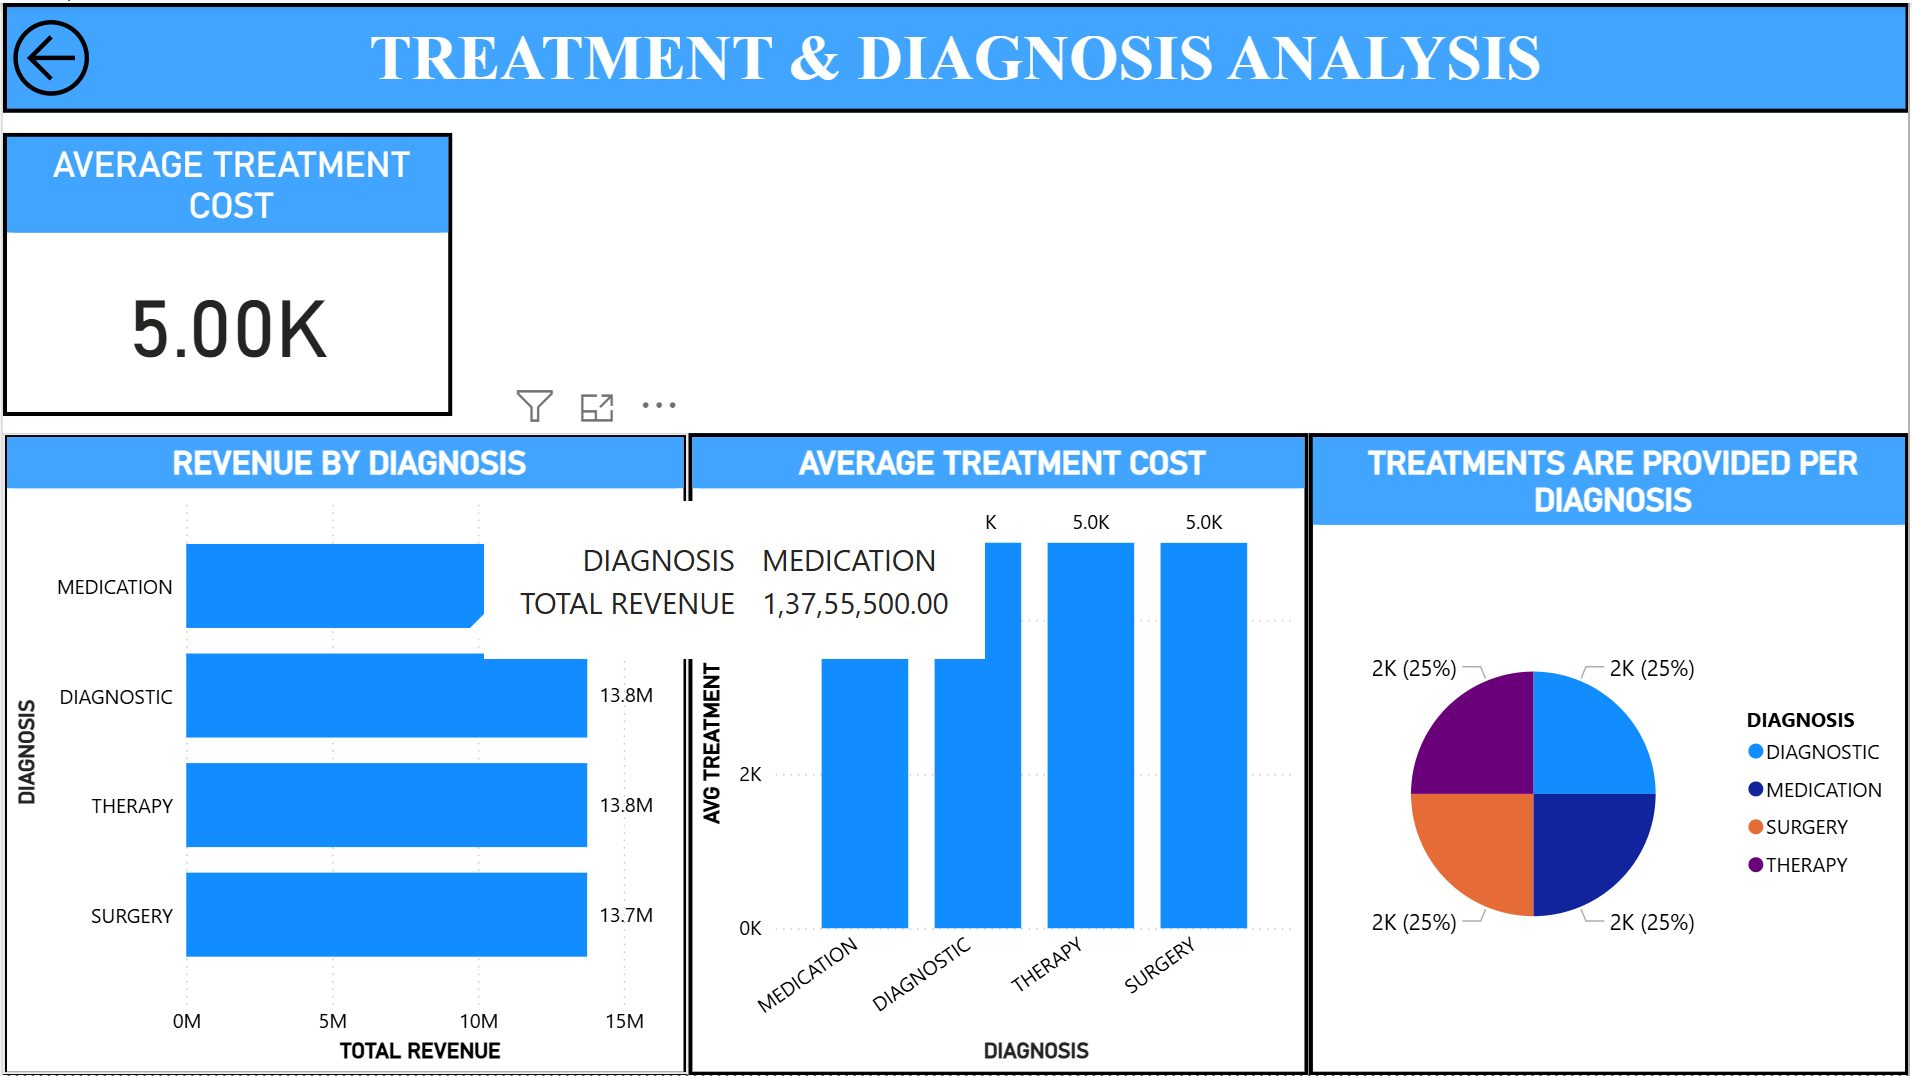

What the dashboard file says about the page in this screenshot:
{"tool":"powerbi","page":{"name":"TREATMENT & DIAGNOSIS ANALYSIS","canvas":[1280,720],"ordinal":5},"visuals":[{"type":"textbox","box":[0,0,1280.6,73.7],"z":0},{"type":"clusteredBarChart","title":"REVENUE BY DIAGNOSIS","fields":{"Category":["REVENUE BY DIAGNOSIS.DIAGNOSIS"],"Y":["Sum(REVENUE BY DIAGNOSIS.TOTAL_REVENUE)"]},"box":[0,288.3,460,431.7],"z":1000},{"type":"clusteredColumnChart","title":"AVERAGE TREATMENT COST","fields":{"Y":["Sum(AVERAGE TREATMENT COST.AVG_TREATMENT_COST)"],"Category":["AVERAGE TREATMENT COST.DIAGNOSIS"]},"box":[460,288.3,416.7,431.7],"z":2000},{"type":"pieChart","title":"TREATMENTS ARE PROVIDED PER DIAGNOSIS","fields":{"Category":["Query1.DIAGNOSIS"],"Y":["Sum(Query1.TOTAL_TREATMENTS)"]},"box":[876.7,288.3,403.3,431.7],"z":3000},{"type":"card","title":"AVERAGE TREATMENT COST","fields":{"Values":["Avg(AVERAGE TREATMENT COST.AVG_TREATMENT_COST)"]},"box":[0,86.7,301.7,190],"z":4000},{"type":"actionButton","box":[0,4.5,84.3,64.7],"z":4001}]}

Visuals, with their boxes in screenshot pixels (x1, y1, x2, y2), scaled from the page's 1280x720 canvas onto the 1912x1076 screenshot:
textbox: (left=0, top=0, right=1911, bottom=110)
"REVENUE BY DIAGNOSIS" clusteredBarChart: (left=0, top=431, right=687, bottom=1075)
"AVERAGE TREATMENT COST" clusteredColumnChart: (left=687, top=431, right=1310, bottom=1075)
"TREATMENTS ARE PROVIDED PER DIAGNOSIS" pieChart: (left=1310, top=431, right=1911, bottom=1075)
"AVERAGE TREATMENT COST" card: (left=0, top=130, right=451, bottom=414)
actionButton: (left=0, top=7, right=126, bottom=103)
